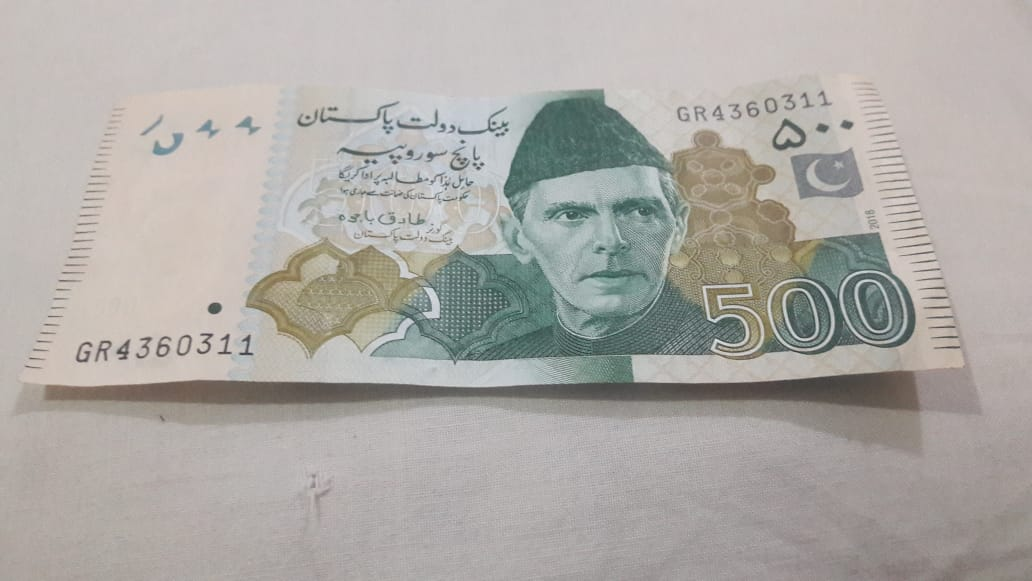500 rupee: (23, 77, 956, 431)
